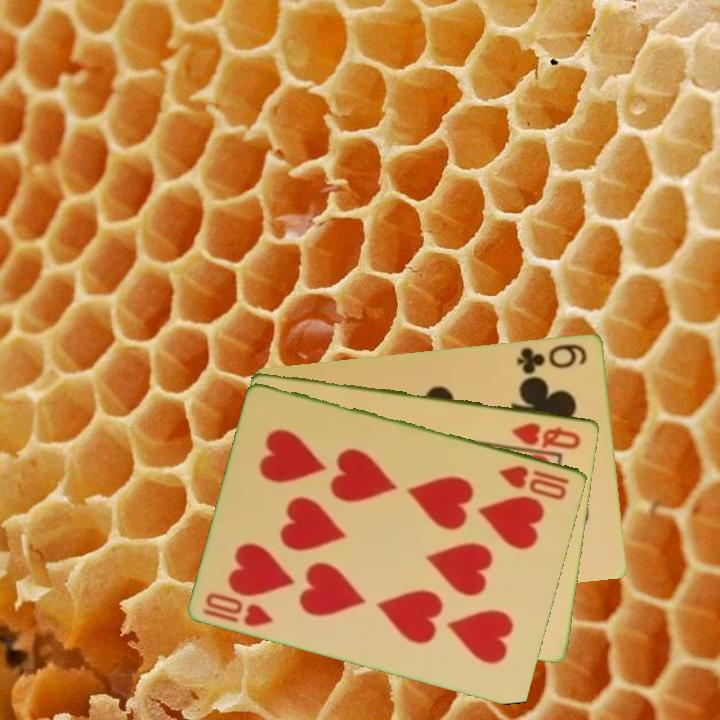10h: (495, 461, 573, 503), (199, 588, 276, 630)
6c: (513, 339, 591, 376)
Qh: (508, 418, 584, 452)
